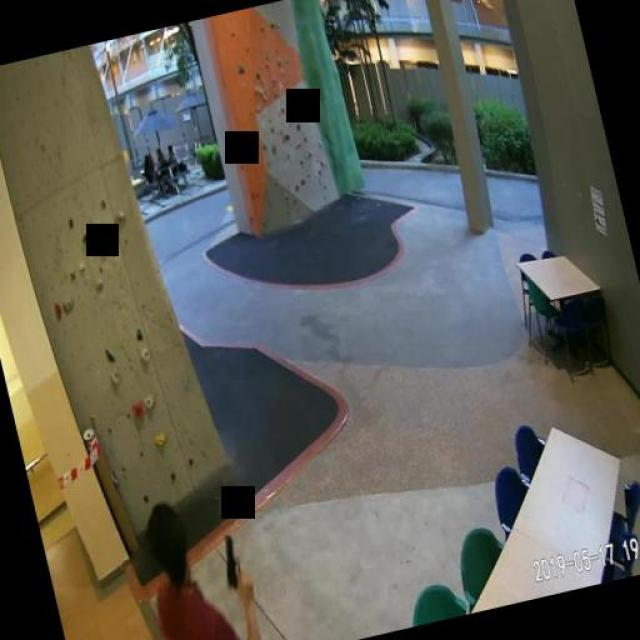gun: (216, 530, 252, 594)
